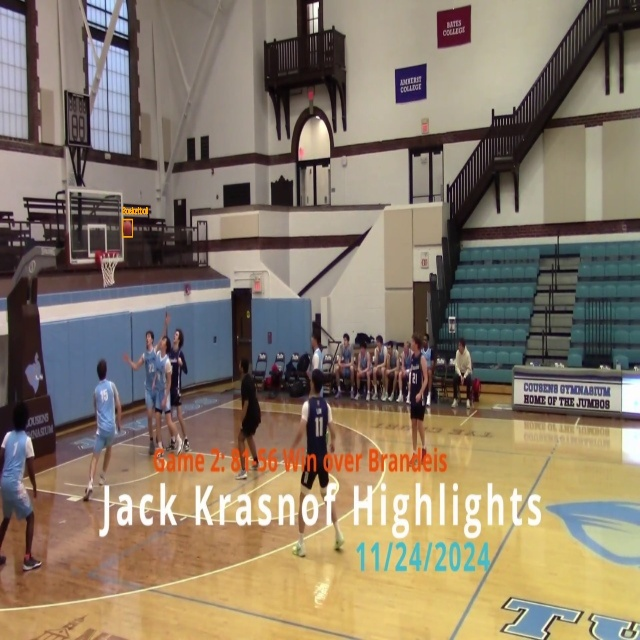Basketball: (122, 220, 132, 237)
